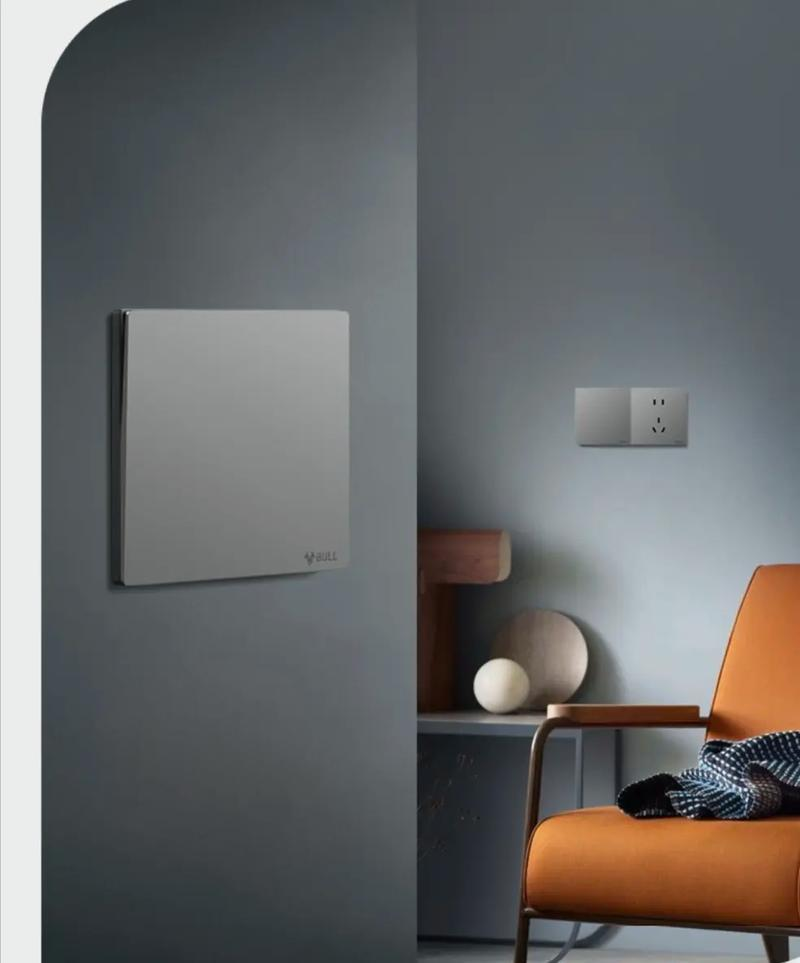button: (112, 306, 348, 591), (574, 385, 630, 448)
